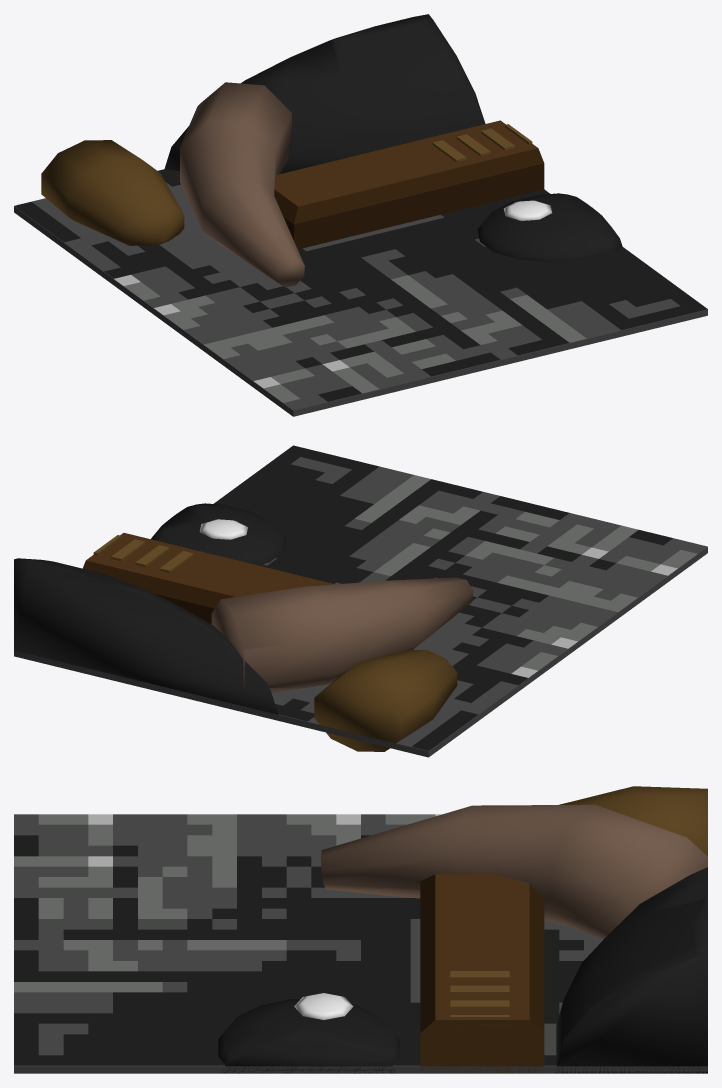
The model's file is newshs-77.glb.
3 renders of one model, top to bottom at view 1: azimuth 30°, elevation 25°; view 2: azimuth 150°, elevation 25°; view 3: azimuth 270°, elevation 25°, orthographic. The views are drawn at different scales.
Visible parts, largest first — view 1: newshs-77.001; view 2: newshs-77.001; view 3: newshs-77.001.
Boxes of the visible parts, box(x1,y1,x2,y2) form: newshs-77.001: box(14, 14, 707, 416); newshs-77.001: box(14, 445, 707, 757); newshs-77.001: box(14, 786, 707, 1073).
Bounding box in the file's own units: 2 × 0.5118 × 2.33.
